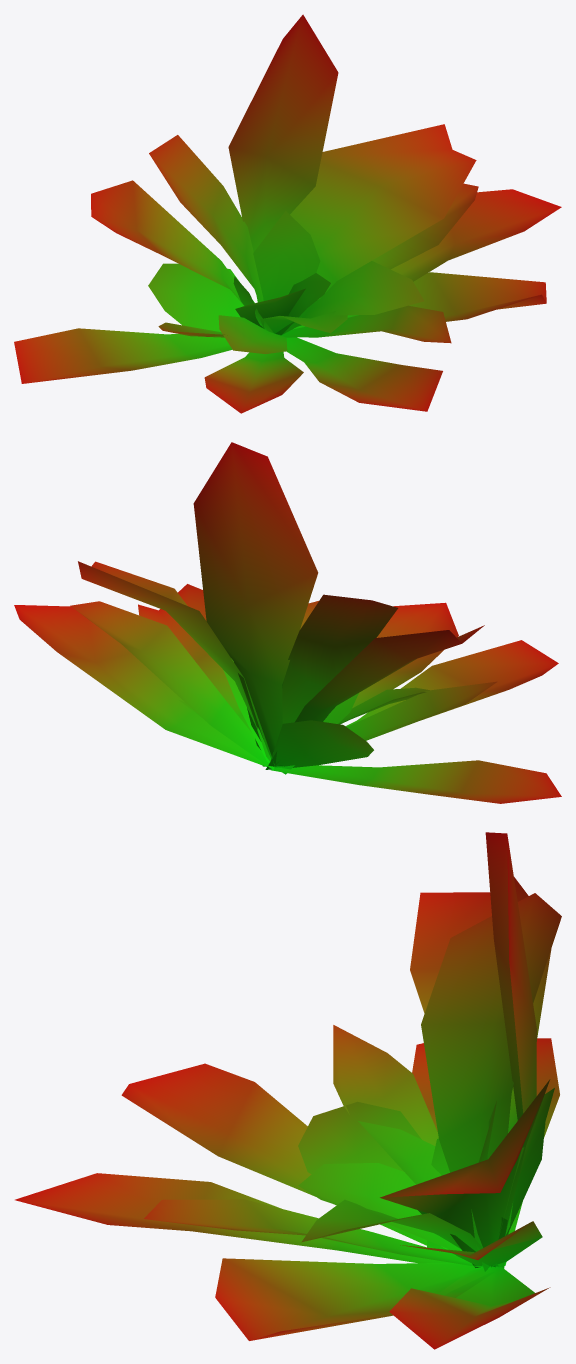
Rendered from Var27_LOD1.fbx.
3 views of the same model, one above another, from view 1: azimuth 30°, elevation 25°; view 2: azimuth 150°, elevation 25°; view 3: azimuth 270°, elevation 25° (orthographic). The views are drawn at different scales.
Visible parts, largest first — view 1: _eeir_Var27_LOD1; view 2: _eeir_Var27_LOD1; view 3: _eeir_Var27_LOD1.
Part boxes in pixels (x1,y1,x2,y2): _eeir_Var27_LOD1: (14,14,561,413); _eeir_Var27_LOD1: (14,442,561,803); _eeir_Var27_LOD1: (15,832,561,1349).
Bounding box in the file's own units: 15.54 × 8.72 × 9.26.
